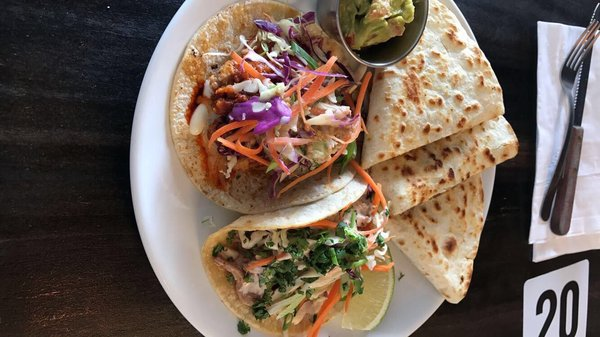sandwich: (540, 20, 597, 233)
soup: (167, 0, 375, 214)
sushi: (130, 0, 529, 331), (315, 1, 429, 70)
